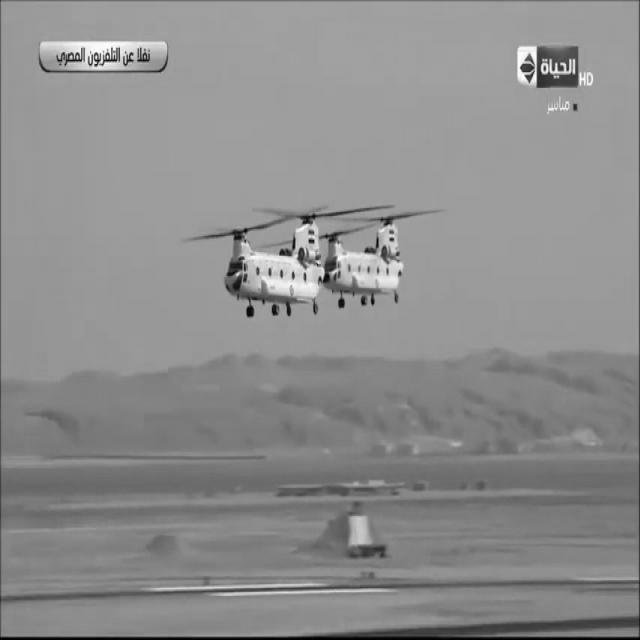helikopter: (220, 201, 324, 315), (330, 212, 414, 315)
